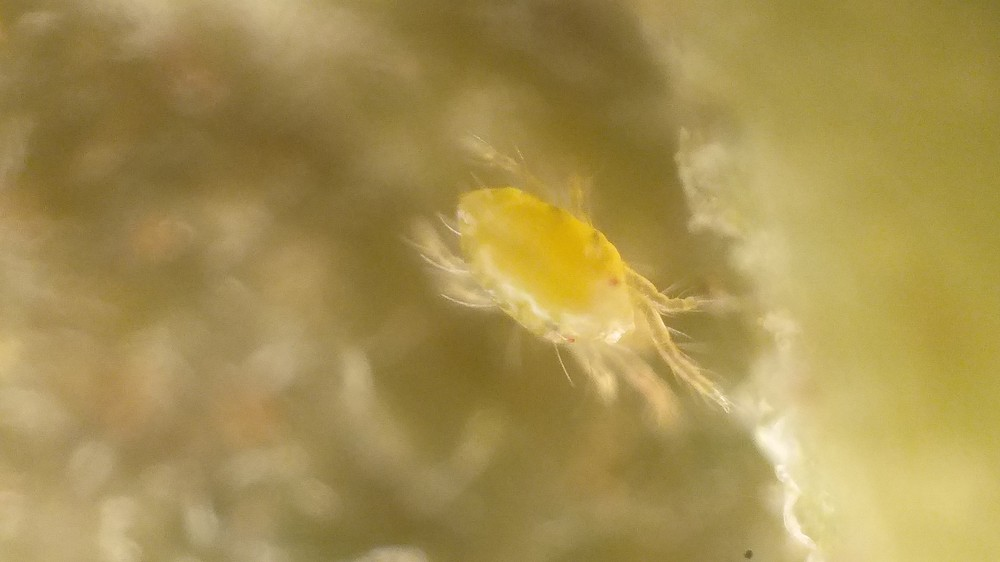Aracnido Rojo: (400, 142, 787, 476)
